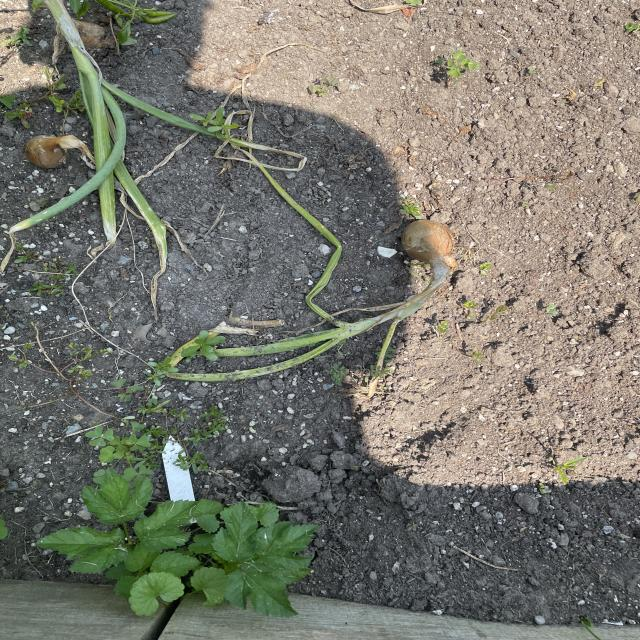Onion: (190, 214, 460, 390), (37, 0, 214, 143), (26, 136, 161, 236)
weed: (42, 476, 336, 618), (80, 402, 242, 482), (422, 43, 487, 90)
